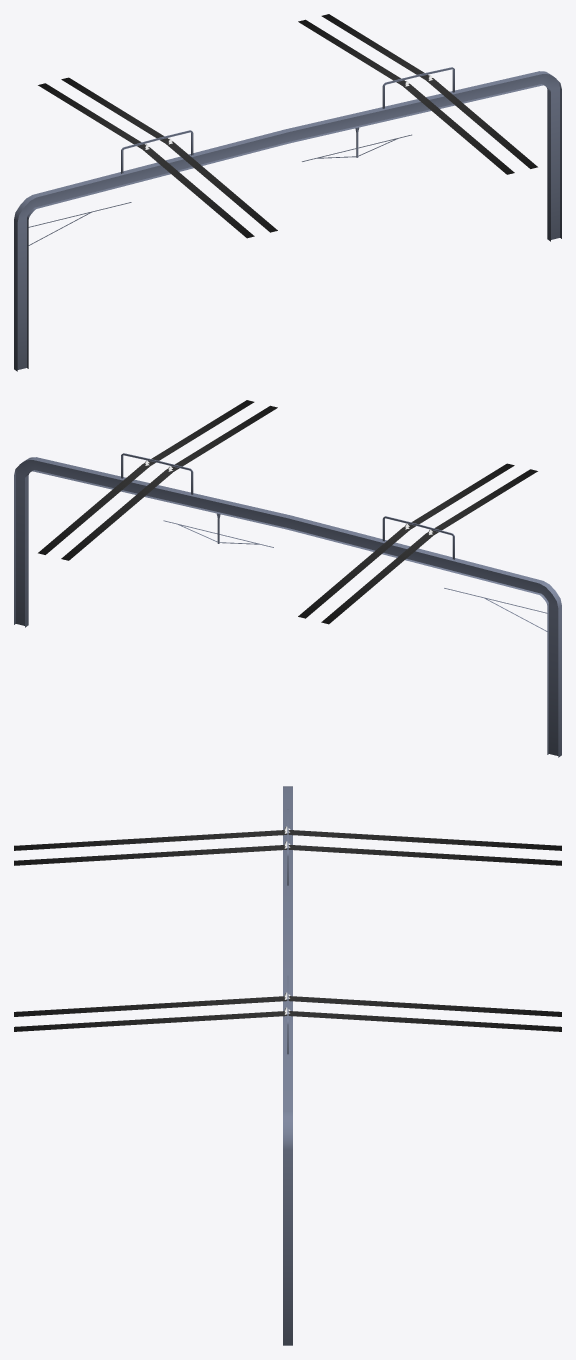
Rendered from KASENCHU_3RAIL_KONKURI.glb.
The picture shows the model from 3 angles, top to bottom: view 1: azimuth 30°, elevation 25°; view 2: azimuth 150°, elevation 25°; view 3: azimuth 270°, elevation 25°; orthographic projection. The views are drawn at different scales.
Visible parts, largest first — view 1: FRAME_ROOT; view 2: FRAME_ROOT; view 3: FRAME_ROOT.
Boxes of the visible parts, x1,y1,x2,y2 form: FRAME_ROOT: (14, 14, 561, 371); FRAME_ROOT: (14, 400, 561, 757); FRAME_ROOT: (14, 786, 561, 1345).
Size of the model in its own units: 59.45 by 20.63 by 39.61.
3 materials, 2 textured.
